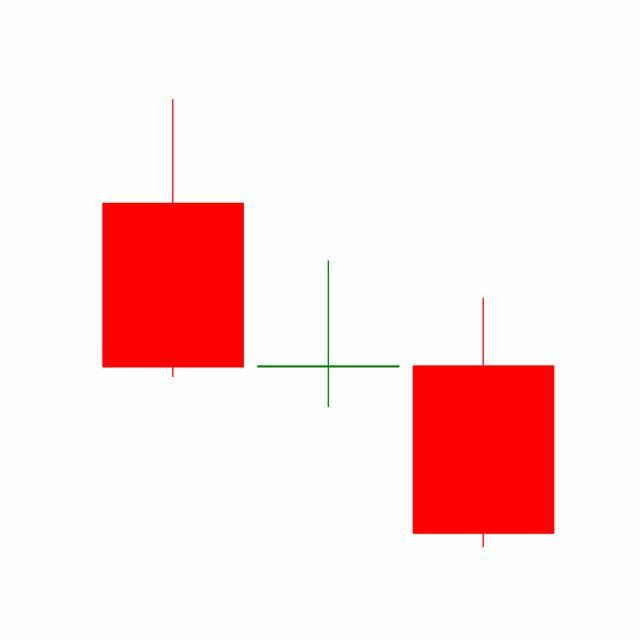Spinning Top: (250, 259, 407, 409)
